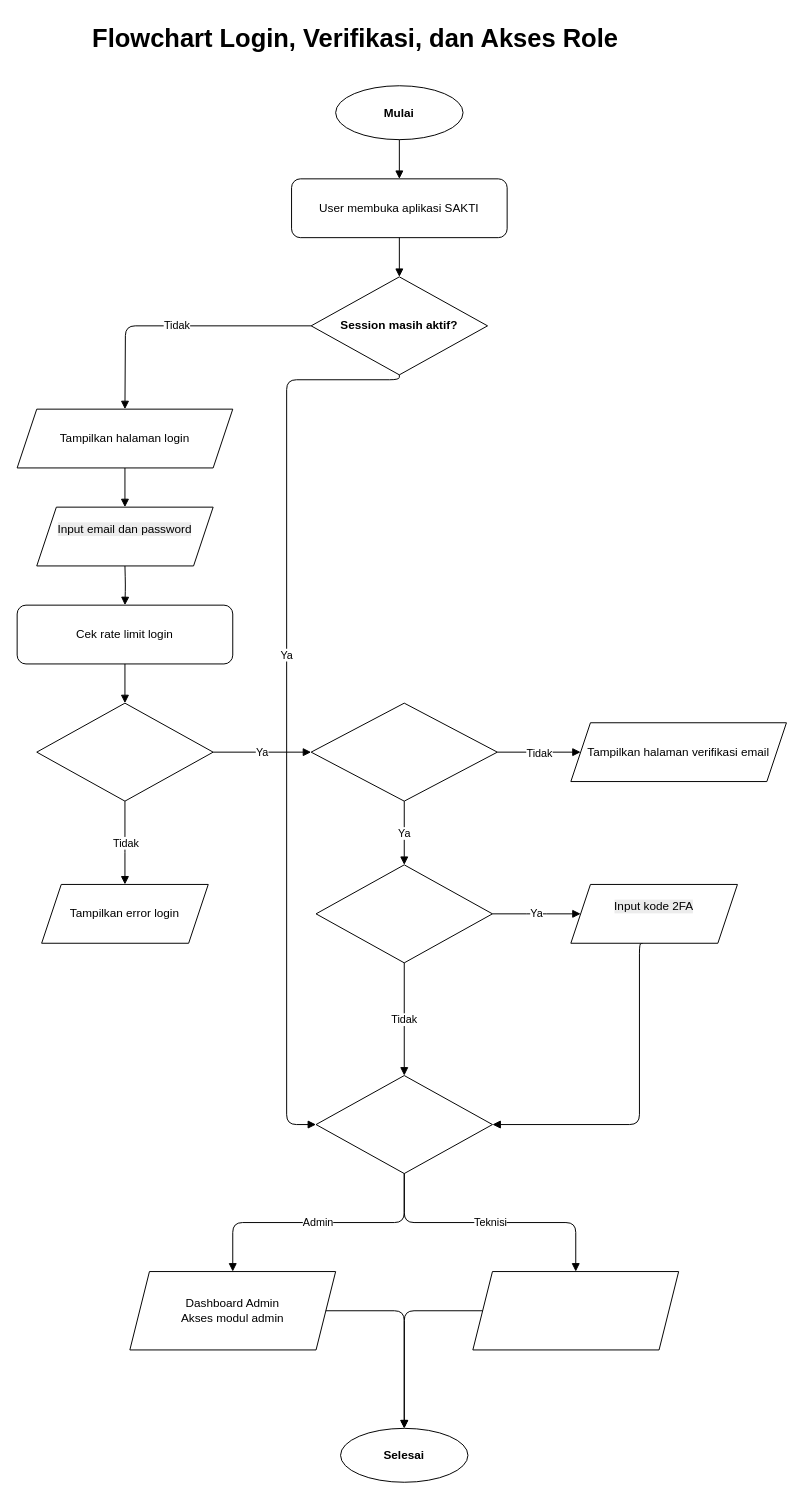
Image size: 804x1499. Some labels were removed from this diagram. Each missing label, with the box of its shape:
2FA aktif?: (315, 864, 492, 963)
Dashboard Teknisi Akses modul teknisi: (472, 1271, 679, 1350)
Email sudah verified?: (310, 702, 497, 801)
Kredensial valid?: (36, 702, 213, 801)
Role user?: (315, 1075, 492, 1174)
